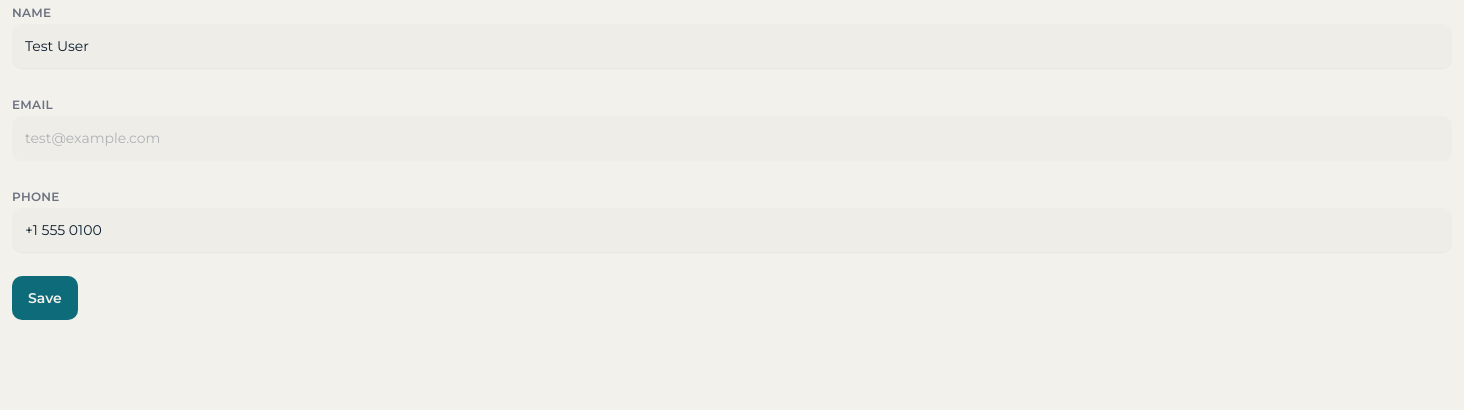
Scenario: components/account/profile-form › save functionality › shows success feedback after saving
Click the button "Save" at (45, 298), box [12,276,78,320]
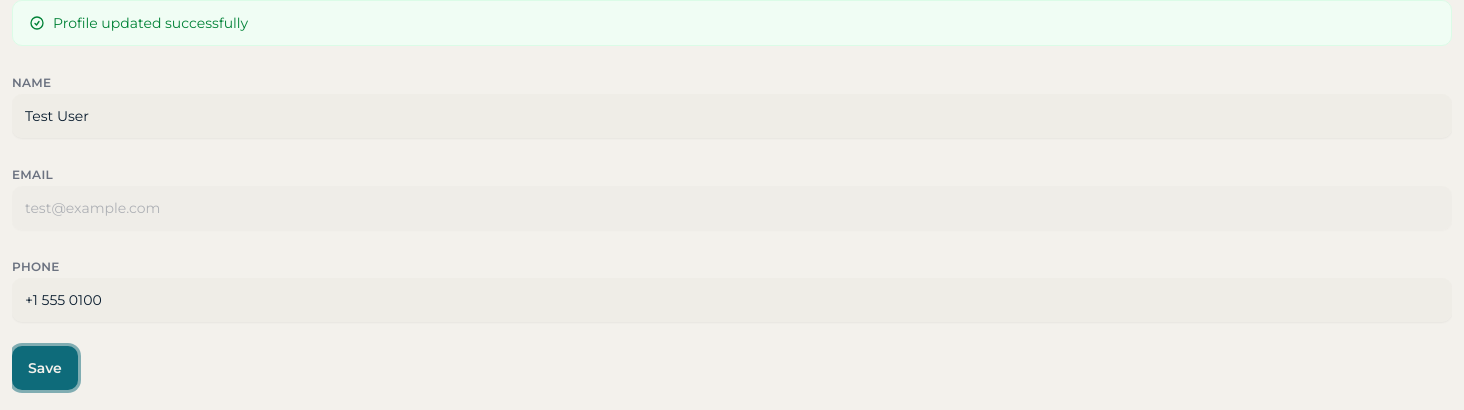
Expected: the text "Profile updated successfully" is shown, [12,0,1452,46]
